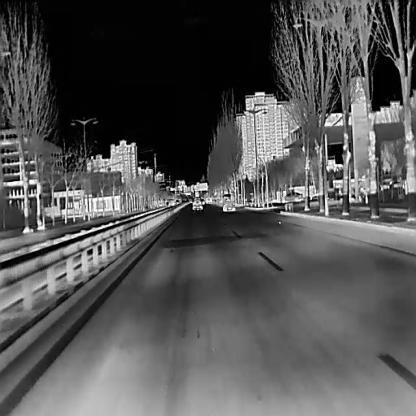car: (282, 191, 303, 203), (222, 193, 235, 211), (191, 196, 202, 210)
